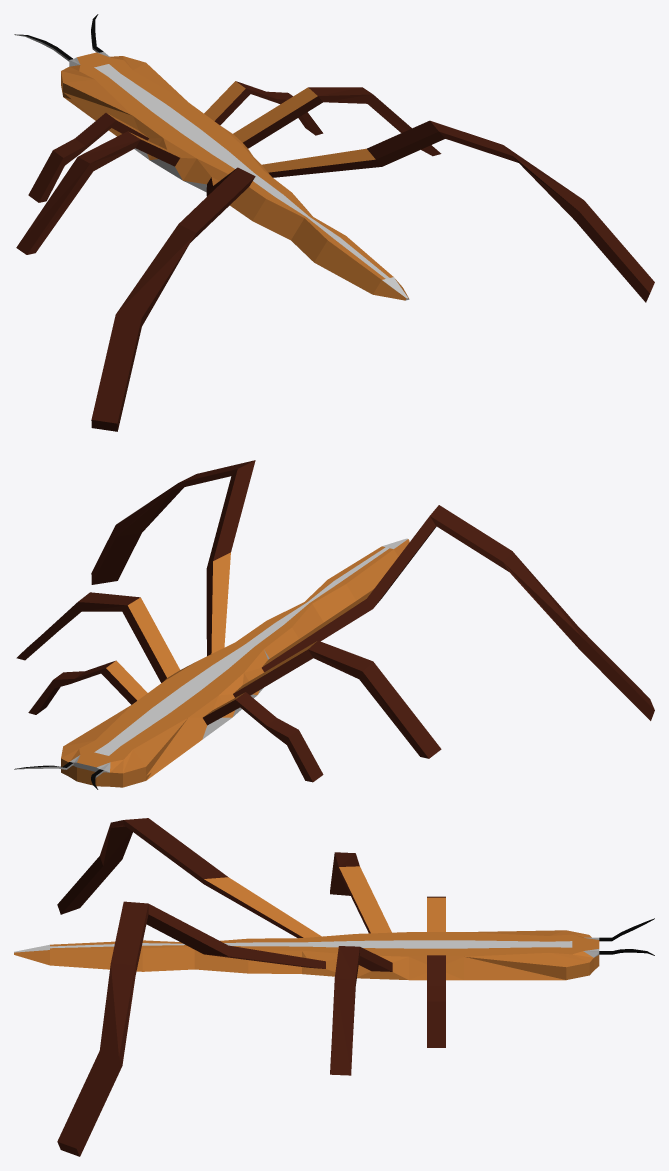
File: locust.obj
3 renders of one model, top to bottom at view 1: azimuth 30°, elevation 25°; view 2: azimuth 150°, elevation 25°; view 3: azimuth 270°, elevation 25°, orthographic. The views are drawn at different scales.
Parts seen in each view (by area): view 1: Cube_Cube.001; view 2: Cube_Cube.001; view 3: Cube_Cube.001.
Part boxes in pixels (box(x1,y1,x2,y2)): Cube_Cube.001: box(14, 14, 654, 431); Cube_Cube.001: box(14, 460, 654, 789); Cube_Cube.001: box(14, 818, 654, 1156).
Size of the model in its own units: 2.01 by 0.6432 by 2.17.
